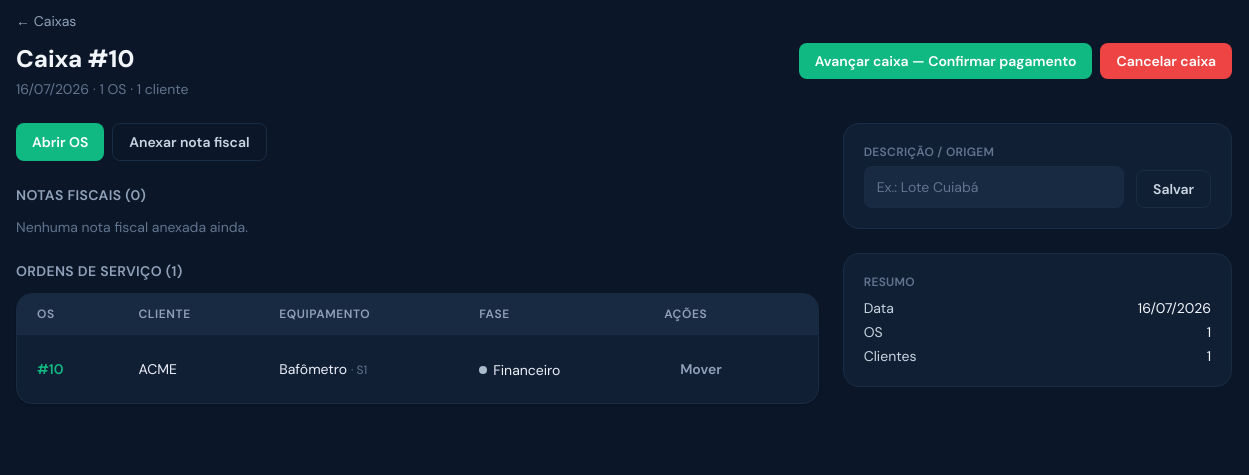
Scenario: CaixaDetailPage — avancar sem nota fiscal › admin que recusa nao avanca e ve o erro
The width and height of the screenshot is (1249, 475).
Check: the heading "Caixa #10" is shown, box [16,43,134,74]
Click the button "Avançar caixa — Confirmar pagamento".
click(946, 61)  # box [799,43,1092,79]
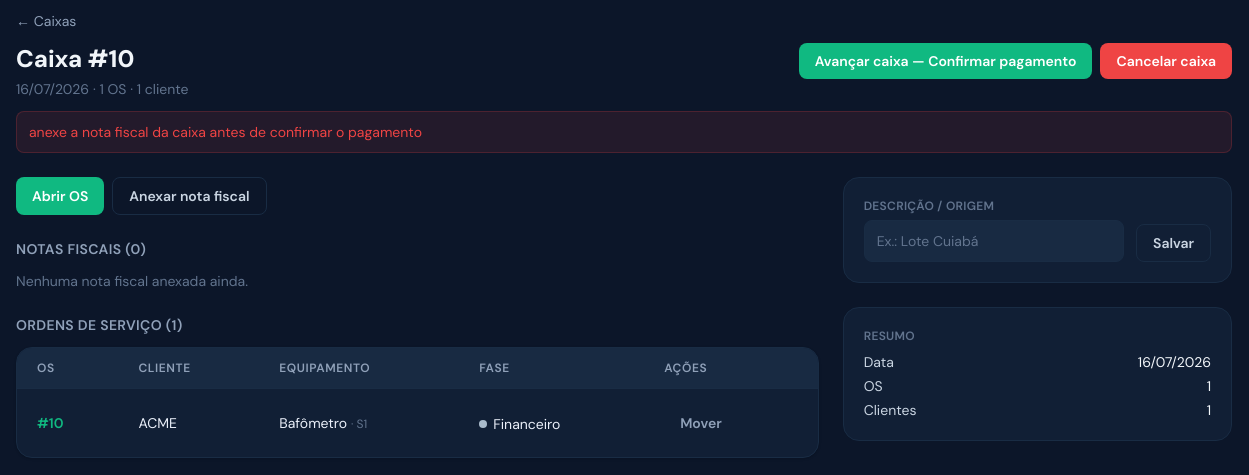
Check: the text "anexe a nota fiscal da caixa antes de confirmar o pagamento" is shown, box [16,111,1232,153]
